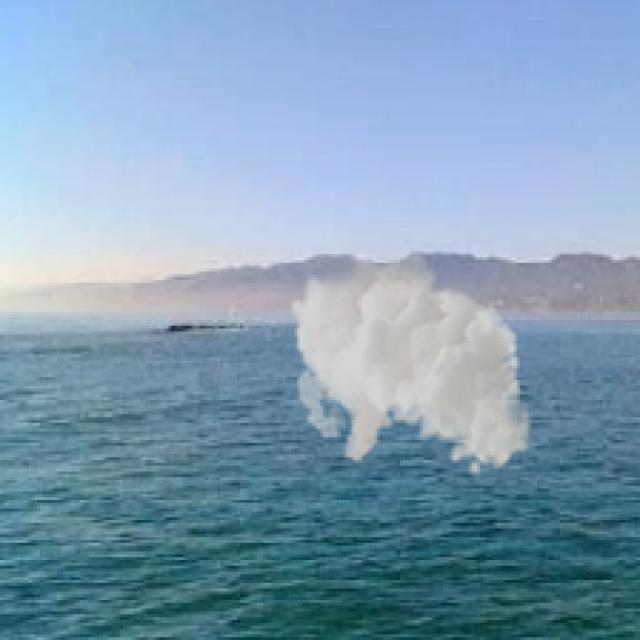Smoke: (288, 242, 532, 478)
